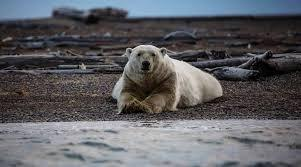bear: (114, 42, 226, 116)
